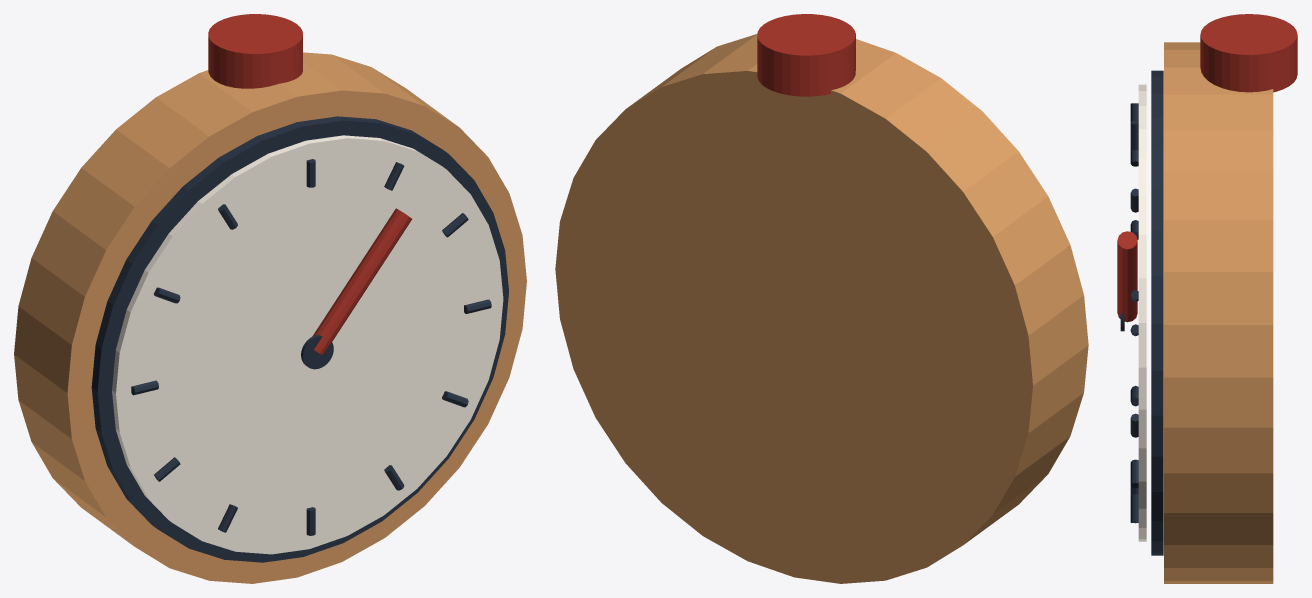
Rendered from timer.glb.
3 renders of one model, left to right at view 1: azimuth 30°, elevation 25°; view 2: azimuth 150°, elevation 25°; view 3: azimuth 270°, elevation 25°, orthographic. The views are drawn at different scales.
Visible parts, largest first — view 1: dial, housing, bezel, knob, timer hand0, hub; view 2: housing, knob; view 3: housing, knob, bezel, dial, timer hand0, tick 0, tick 5, tick 4.
Boxes of the visible parts, left/top/right/bottom form: dial: left=112, top=135, right=503, bottom=554; housing: left=14, top=52, right=526, bottom=583; bezel: left=91, top=116, right=508, bottom=562; knob: left=208, top=14, right=302, bottom=88; timer hand0: left=312, top=208, right=411, bottom=355; hub: left=301, top=335, right=333, bottom=369; housing: left=555, top=34, right=1088, bottom=583; knob: left=757, top=14, right=855, bottom=96; housing: left=1164, top=42, right=1273, bottom=583; knob: left=1200, top=14, right=1297, bottom=92; bezel: left=1151, top=70, right=1163, bottom=555; dial: left=1138, top=84, right=1146, bottom=541; timer hand0: left=1117, top=231, right=1137, bottom=322; tick 0: left=1130, top=120, right=1138, bottom=150; tick 5: left=1130, top=494, right=1138, bottom=523; tick 4: left=1130, top=459, right=1138, bottom=488.
Size of the model in its own units: 1.34 by 1.43 by 0.445.
